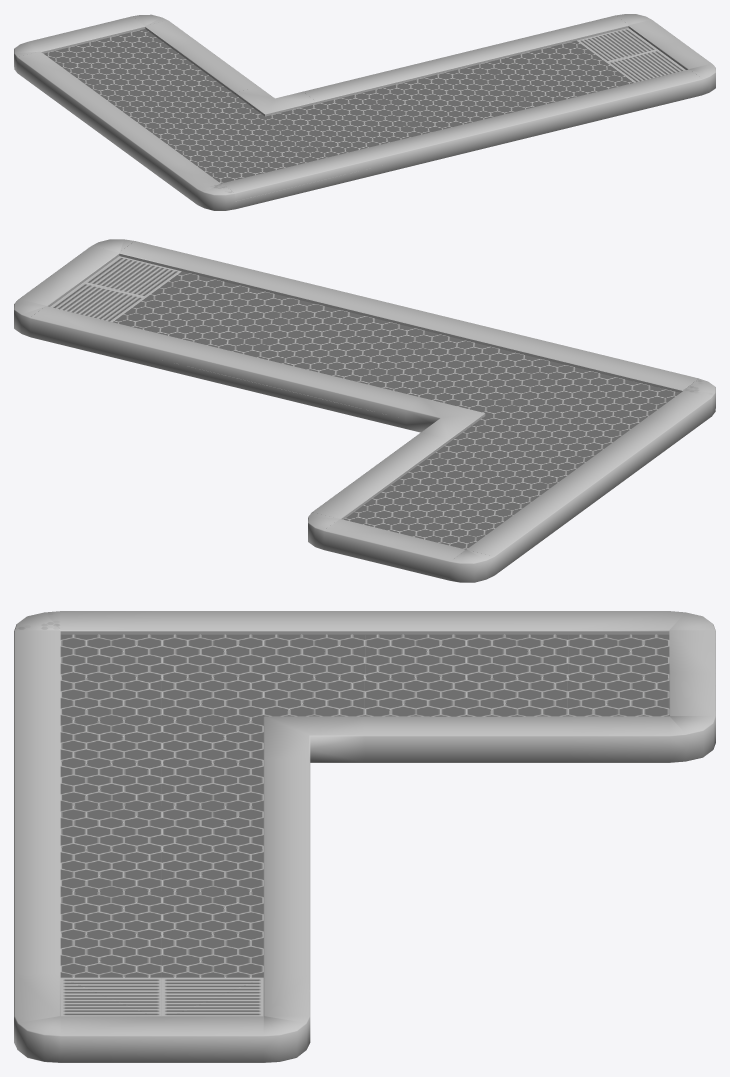
The model's file is Platform_2.FBX.
The picture shows the model from 3 angles, top to bottom: view 1: azimuth 30°, elevation 25°; view 2: azimuth 150°, elevation 25°; view 3: azimuth 270°, elevation 25°; orthographic projection. The views are drawn at different scales.
Visible parts, largest first — view 1: Platform_2; view 2: Platform_2; view 3: Platform_2.
Boxes of the visible parts, <box> form: Platform_2: <box>14,14,715,210</box>; Platform_2: <box>14,239,715,582</box>; Platform_2: <box>14,611,715,1062</box>.
Bounding box in the file's own units: 695 × 21.22 × 485.
1 material, 1 textured.
